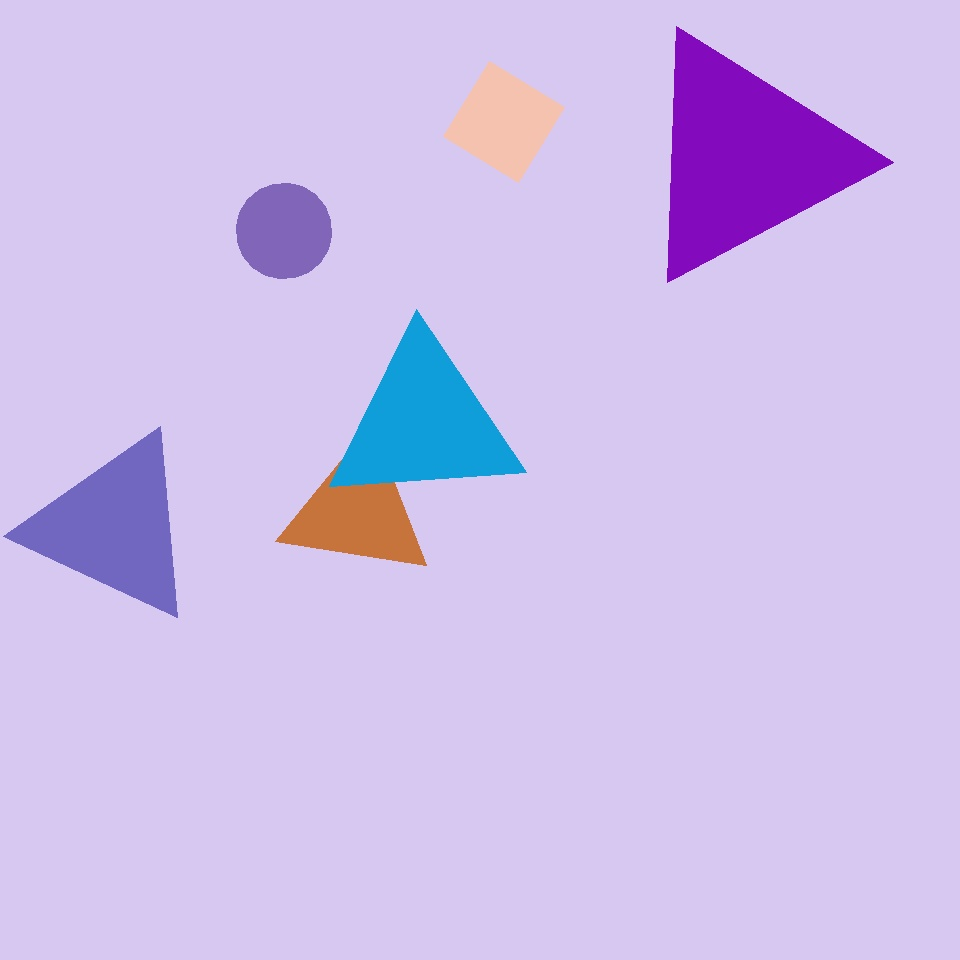circle: (633, 29, 859, 285), (326, 334, 522, 512), (27, 432, 201, 622), (283, 439, 434, 581)
square: (85, 373, 348, 636), (444, 61, 564, 182)
triangle: (283, 47, 658, 421), (560, 82, 738, 260), (236, 184, 332, 278)
